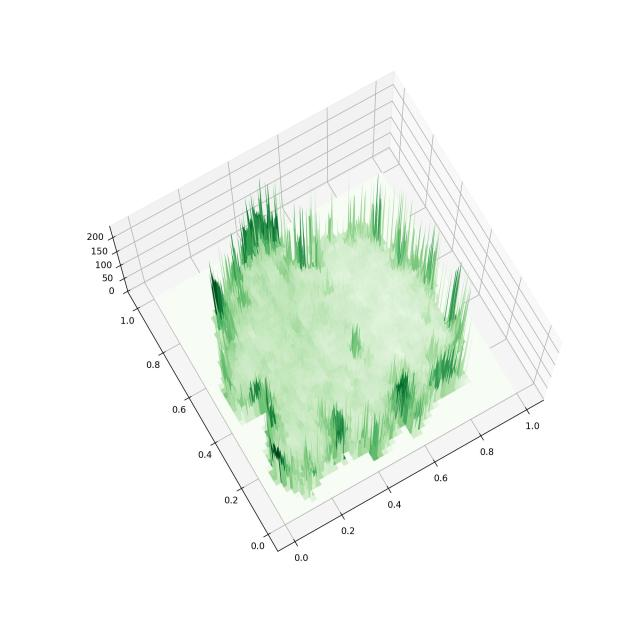pine: (51, 14, 604, 594)
